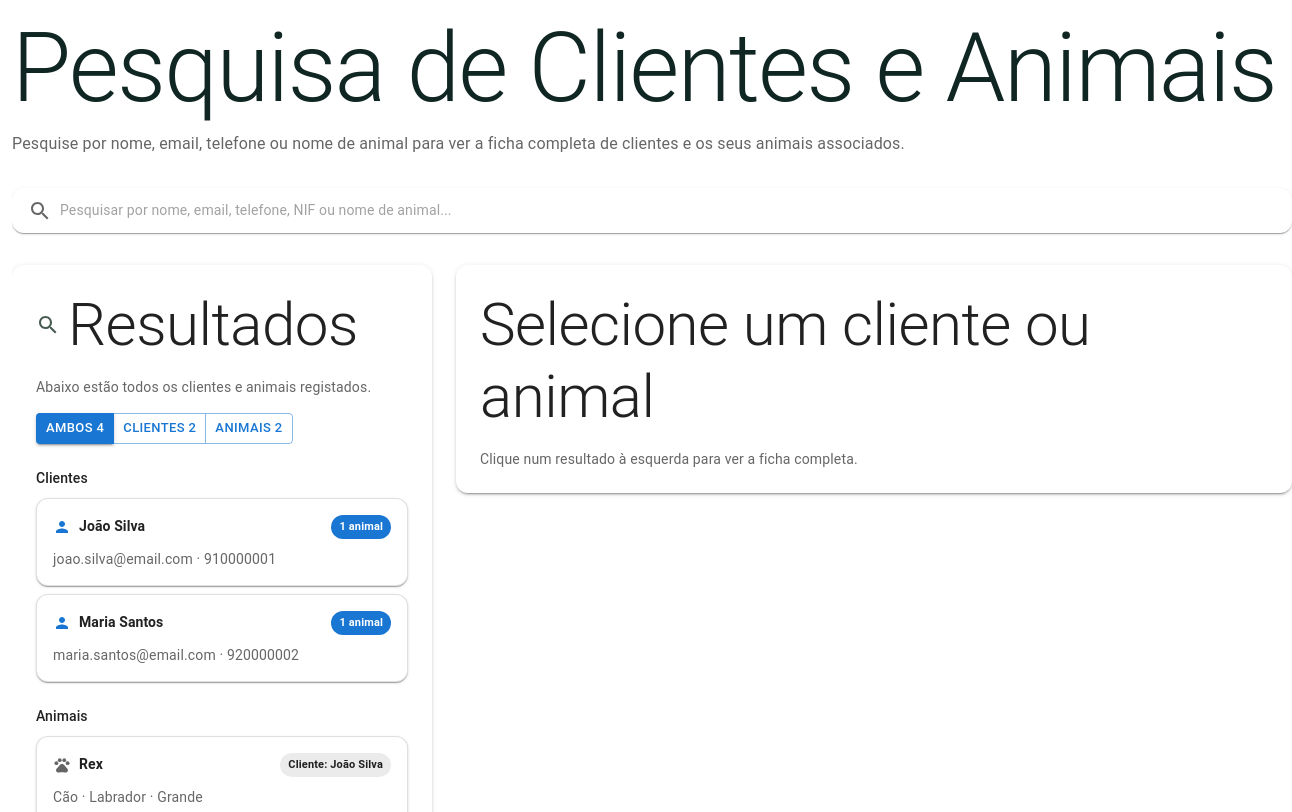
Test case: Pesquisa page › filtrar por email de cliente mostra resultado correcto
The width and height of the screenshot is (1292, 812).
Check: the heading "João Silva" is shown, box [79,518,145,534]
Type "maria.santos@email.com" into the field with test id "pesquisa-input" at [668, 211], box [60,196,1276,225]
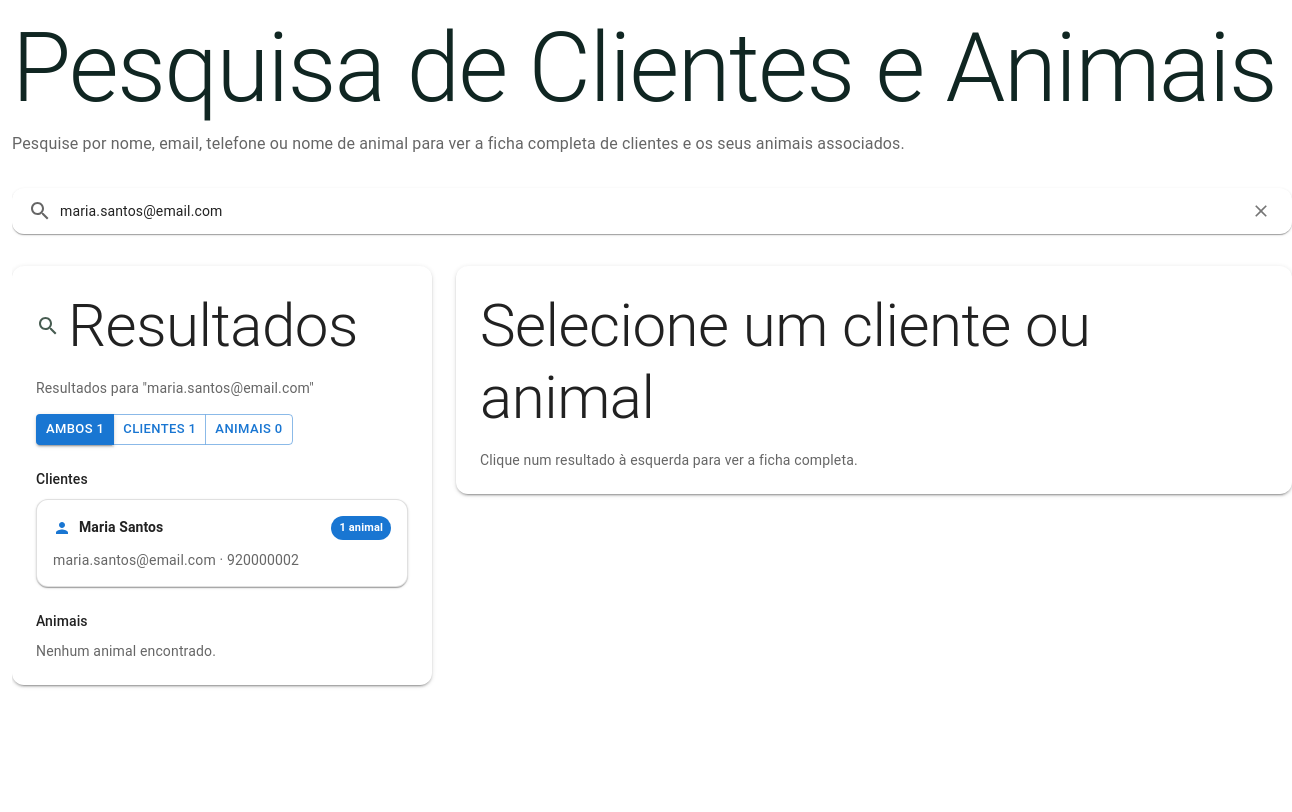
Check: the heading "Maria Santos" is shown, box [79,519,163,535]
Check: the heading "João Silva" is gone
